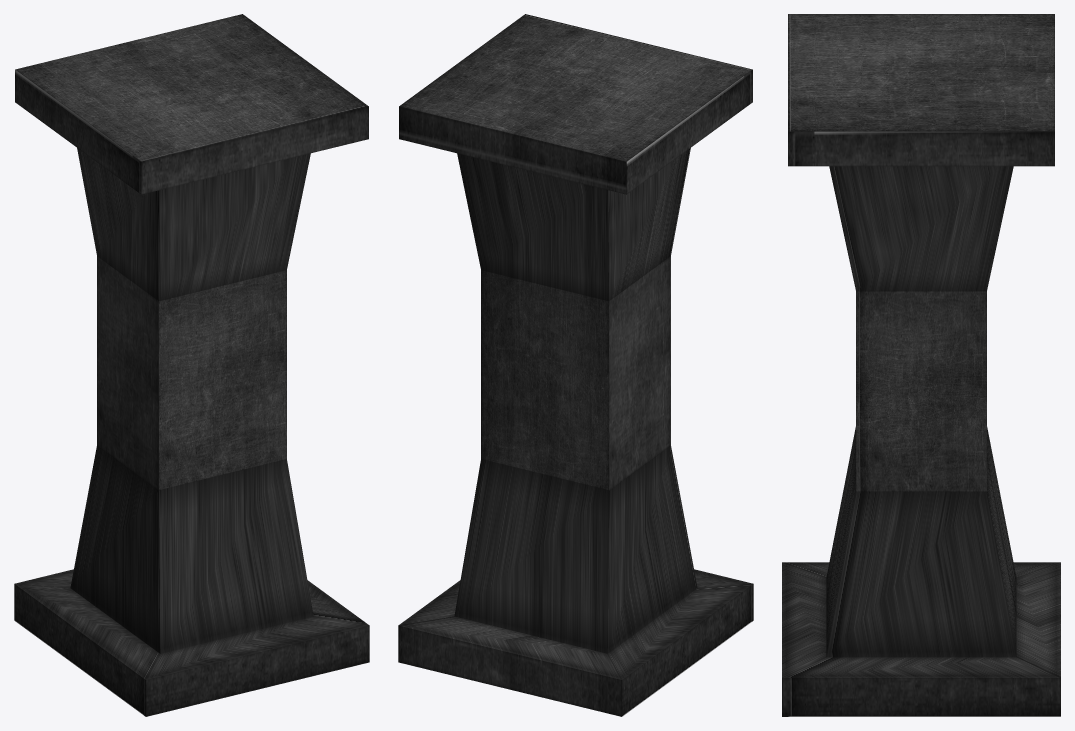
Rendered from post.fbx.
The picture shows the model from 3 angles, left to right: view 1: azimuth 30°, elevation 25°; view 2: azimuth 150°, elevation 25°; view 3: azimuth 270°, elevation 25°; orthographic projection. The views are drawn at different scales.
Parts seen in each view (by area): view 1: pCube1; view 2: pCube1; view 3: pCube1.
Part boxes in pixels (left/top/right/bottom): pCube1: left=14, top=14, right=369, bottom=716; pCube1: left=398, top=14, right=753, bottom=716; pCube1: left=782, top=14, right=1060, bottom=716.
Bounding box in the file's own units: 8.62 × 20.04 × 8.64.
